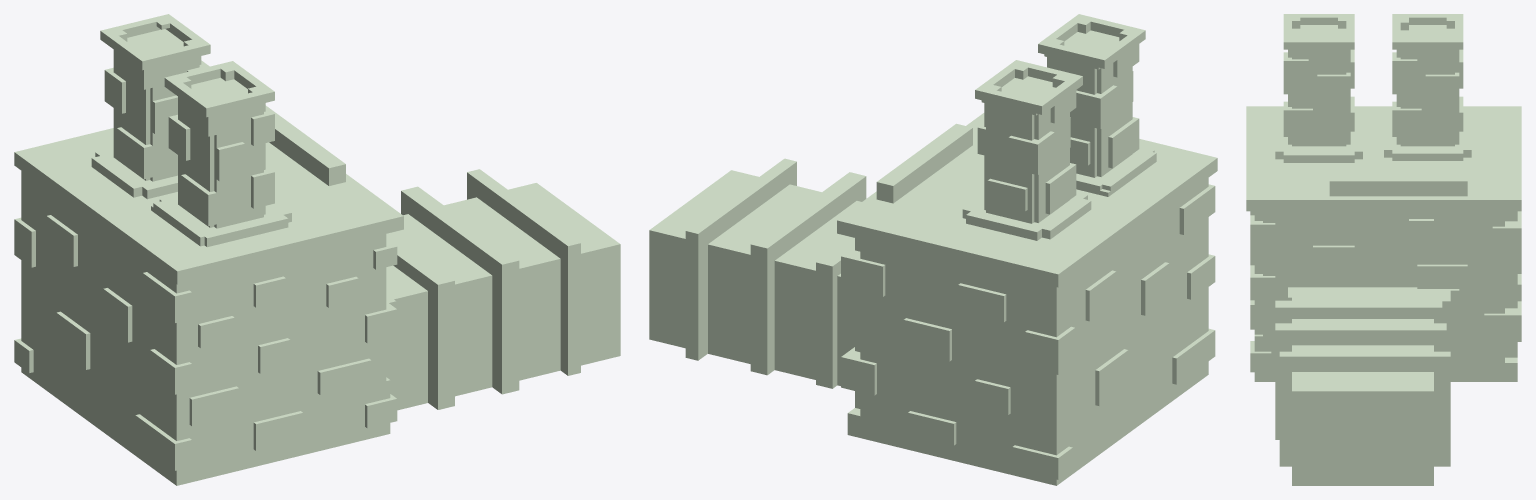
The model's file is building.obj.
The picture shows the model from 3 angles, left to right: view 1: azimuth 30°, elevation 25°; view 2: azimuth 150°, elevation 25°; view 3: azimuth 270°, elevation 25°; orthographic projection. The views are drawn at different scales.
Parts seen in each view (by area): view 1: building; view 2: building; view 3: building.
Boxes of the visible parts, bbox=[...] form: building: bbox=[14, 14, 620, 485]; building: bbox=[649, 14, 1217, 485]; building: bbox=[1246, 14, 1521, 485].
Bounding box in the file's own units: 110 × 79 × 66.
1 material, 1 textured.
